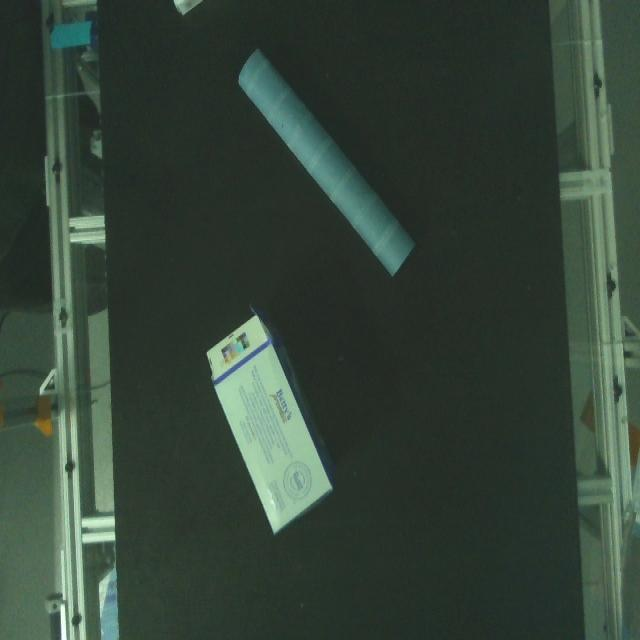paper: (231, 45, 423, 283), (196, 322, 339, 540)
